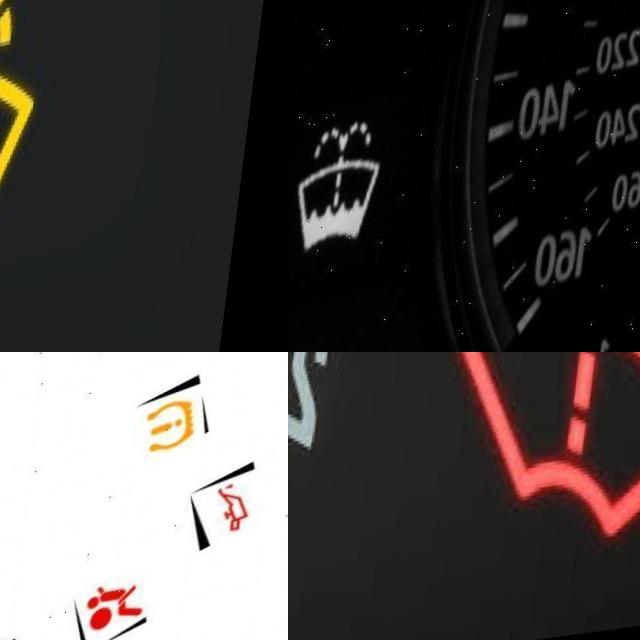Washer Fluid: (441, 352, 640, 598), (298, 129, 395, 269)
